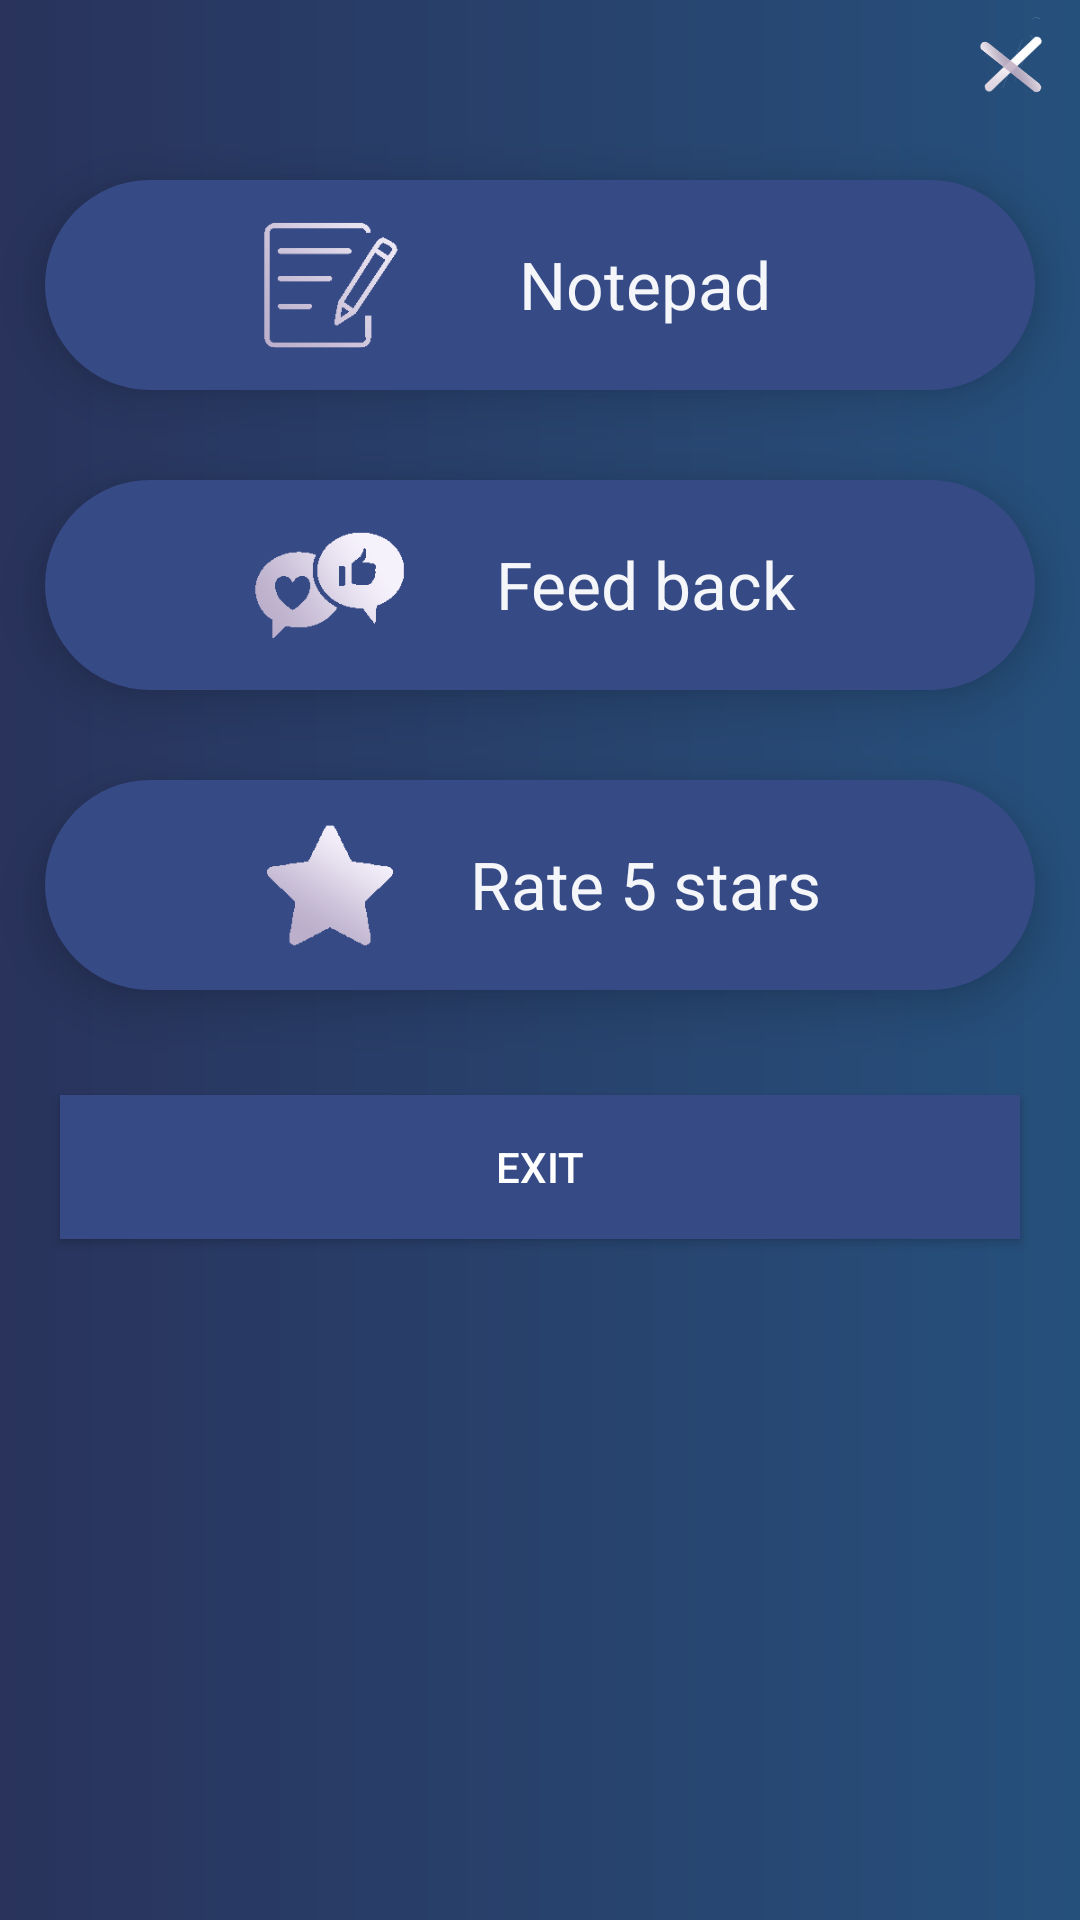

Screen size 1080x1920. Icon name, then its box in pixels as detection(x1, y1, x2, y2):
close: detection(980, 17, 1042, 92)
